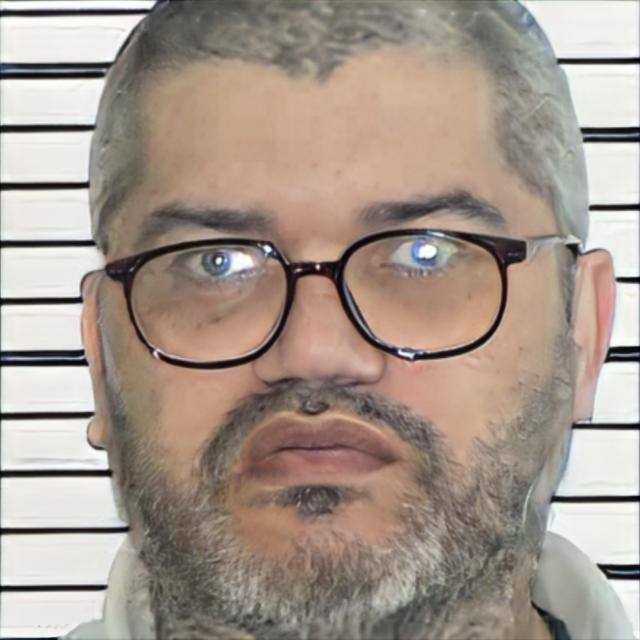disgust: (102, 57, 570, 639)
